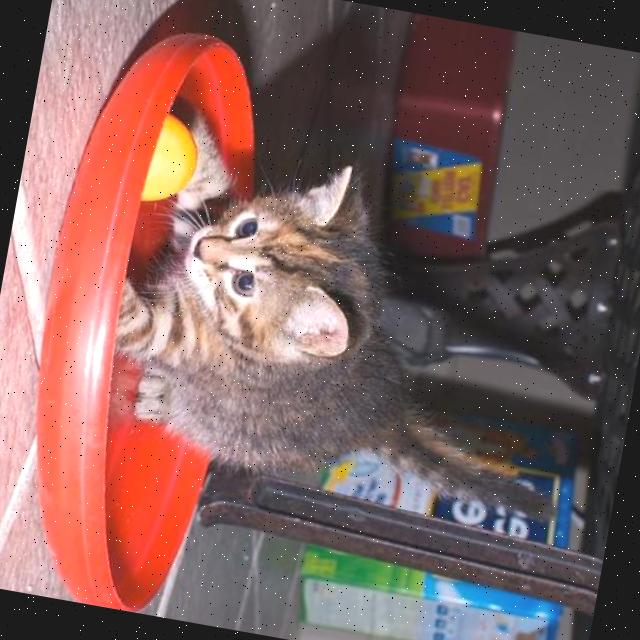ping-pong-ball: (99, 103, 204, 208)
